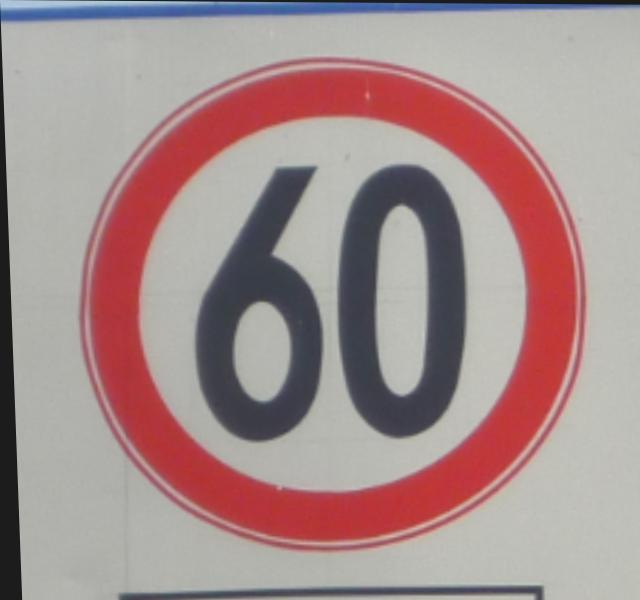limit60: (60, 45, 598, 567)
